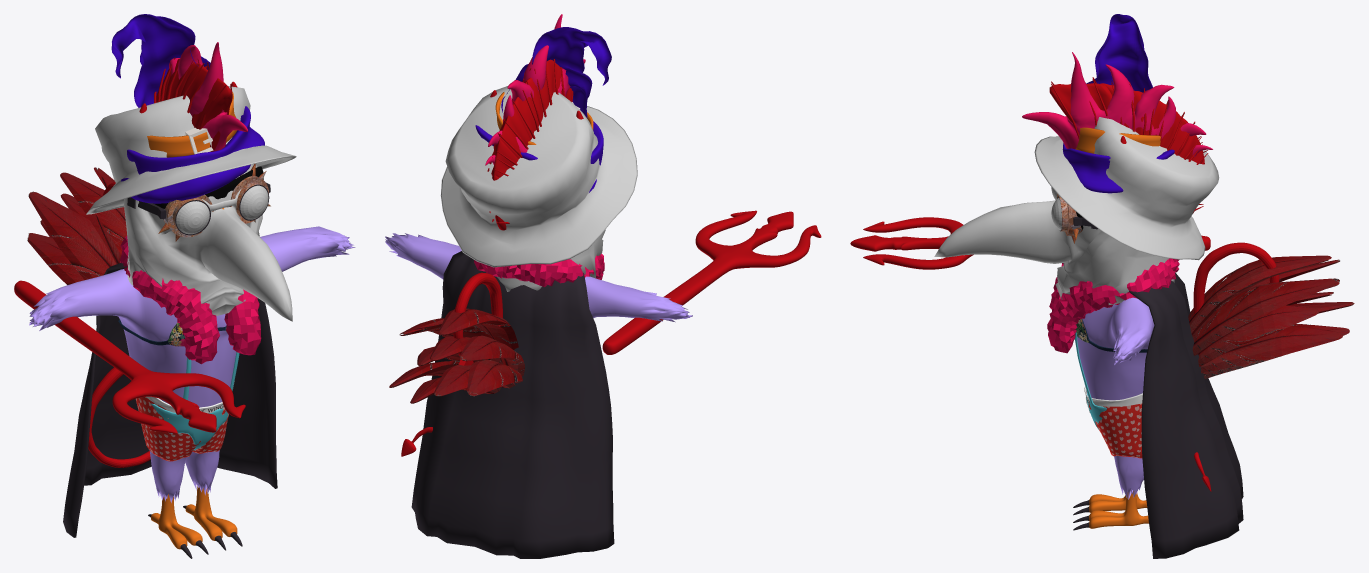
The model's file is Chicken_Body_MageNoRig.fbx.
3 renders of one model, left to right at view 1: azimuth 30°, elevation 25°; view 2: azimuth 150°, elevation 25°; view 3: azimuth 270°, elevation 25°, orthographic. The views are drawn at different scales.
Parts seen in each view (by area): view 1: Plague Doctor, Chicken_Body.002, Mage_Cloak, Cadı Şapkası, Chicken_Tail.002, İncubus_Weapon, Fancy collar.002, Punk Glasses.mage, Chicken_Feet.002, Red_Hair.002, Chicken_Panties.002, Pink_Hair.002 (+4 smaller); view 2: Mage_Cloak, Plague Doctor, Chicken_Tail.002, İncubus_Weapon, Chicken_Body.002, Cadı Şapkası, Red_Hair.002, Fancy collar.002, Pink_Hair.002, İncubus_Tail; view 3: Plague Doctor, Mage_Cloak, Chicken_Tail.002, Chicken_Body.002, Cadı Şapkası, Pink_Hair.002, Fancy collar.002, İncubus_Weapon, Red_Hair.002, Chicken_Panties.002, Chicken_Feet.002, İncubus_Tail (+1 smaller).
Part boxes in pixels (box(x1,y1,x2,y2)): Plague Doctor: box(86, 86, 296, 321); Chicken_Body.002: box(29, 226, 355, 502); Mage_Cloak: box(63, 263, 277, 537); Cadı Şapkası: box(111, 14, 264, 203); Chicken_Tail.002: box(27, 167, 126, 284); İncubus_Weapon: box(14, 280, 245, 433); Fancy collar.002: box(120, 236, 261, 364); Punk Glasses.mage: box(127, 164, 270, 241); Chicken_Feet.002: box(148, 486, 242, 558); Red_Hair.002: box(154, 57, 232, 129); Chicken_Panties.002: box(135, 381, 234, 461); Pink_Hair.002: box(169, 42, 247, 151); Mage_Cloak: box(411, 251, 614, 558); Plague Doctor: box(440, 86, 637, 291); Chicken_Tail.002: box(389, 308, 524, 403); İncubus_Weapon: box(602, 210, 821, 354); Chicken_Body.002: box(385, 233, 692, 322); Cadı Şapkası: box(475, 27, 611, 192); Red_Hair.002: box(487, 59, 573, 230); Fancy collar.002: box(474, 253, 604, 287); Pink_Hair.002: box(485, 14, 585, 165); İncubus_Tail: box(453, 272, 502, 365); Plague Doctor: box(934, 117, 1219, 304); Mage_Cloak: box(1129, 272, 1243, 558); Chicken_Tail.002: box(1188, 255, 1354, 379); Chicken_Body.002: box(1077, 297, 1154, 499); Cadı Şapkası: box(1062, 14, 1174, 193); Pink_Hair.002: box(1022, 52, 1212, 156); Fancy collar.002: box(1047, 258, 1179, 353); İncubus_Weapon: box(850, 217, 1210, 269); Red_Hair.002: box(1049, 77, 1208, 213); Chicken_Panties.002: box(1084, 386, 1142, 458); Chicken_Feet.002: box(1073, 491, 1148, 530); İncubus_Tail: box(1193, 242, 1279, 334).
Size of the model in its own units: 295 by 436 by 415.
